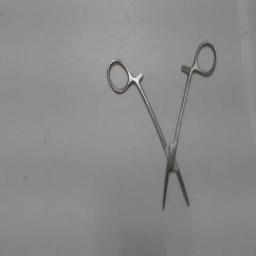Mayo Needle Holder: (104, 39, 220, 219)
